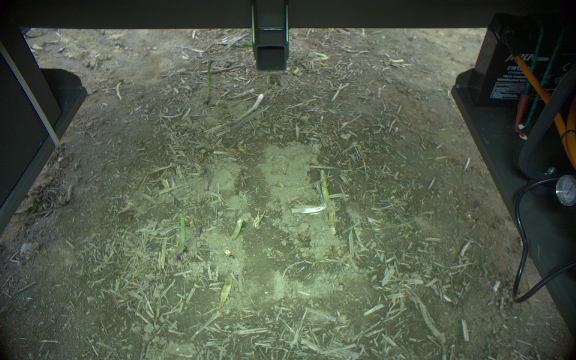aspa: (225, 93, 264, 130), (170, 196, 187, 259), (203, 59, 216, 105), (319, 166, 329, 205), (231, 218, 242, 242), (201, 166, 210, 192), (192, 222, 203, 240), (266, 72, 271, 85)
